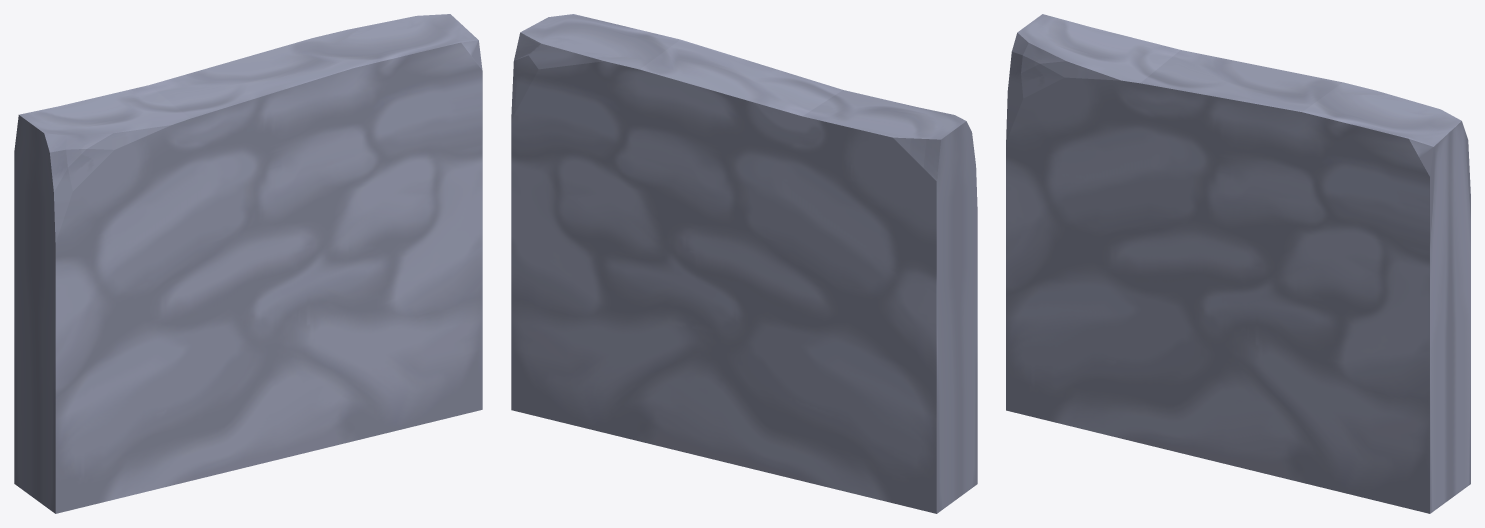
Rendered from wall.glb.
3 views of the same model, side by side, from view 1: azimuth 30°, elevation 25°; view 2: azimuth 150°, elevation 25°; view 3: azimuth 330°, elevation 25° (orthographic).
Visible parts, largest first — view 1: Wall-col; view 2: Wall-col; view 3: Wall-col.
Boxes of the visible parts, left/top/right/bottom form: Wall-col: left=14, top=14, right=482, bottom=513; Wall-col: left=511, top=14, right=977, bottom=513; Wall-col: left=1006, top=14, right=1470, bottom=513.
Size of the model in its own units: 2.4 by 2 by 0.4.
1 material, 1 textured.
